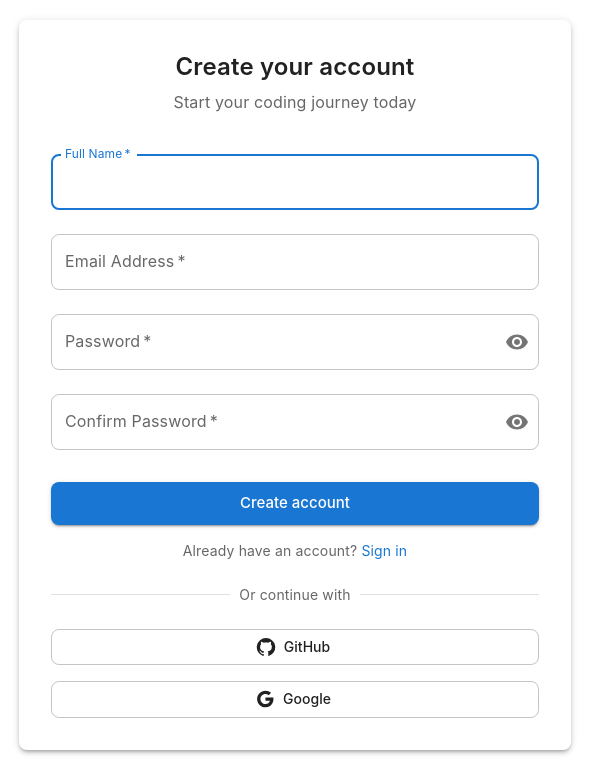
Test: RegisterPage › should show validation error for empty name
What coordinates should you click on to do the following:
click the button "Create account"
I would click on:
 (295, 504)
Its box is [51, 482, 539, 525].
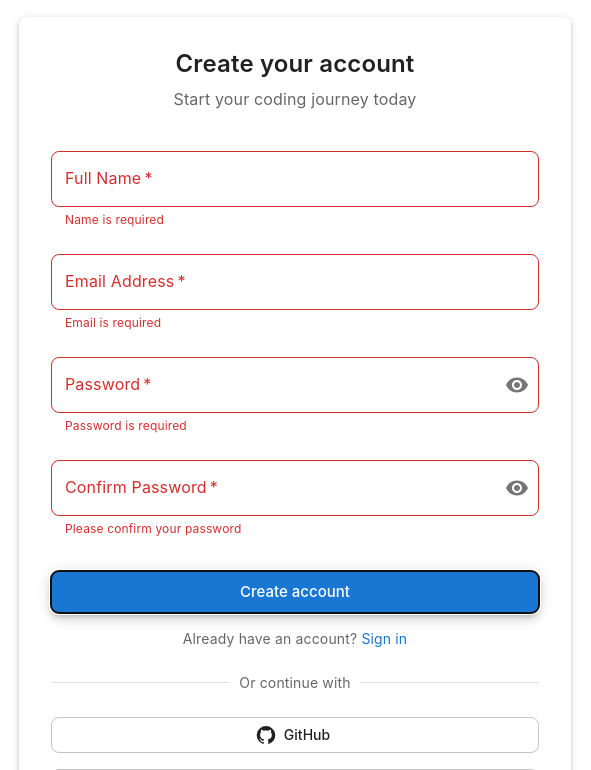
Result: the text "Name is required" is shown at [65, 212, 164, 227]
